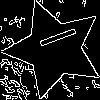I: (29, 24, 78, 54)
